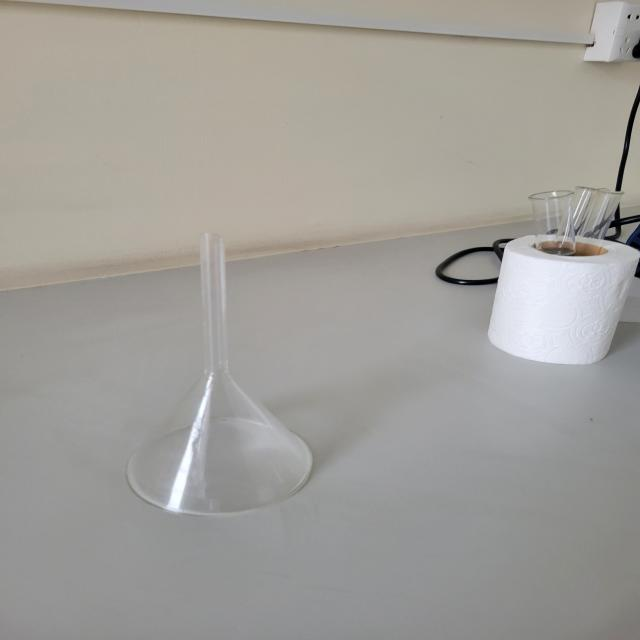Funnel: (89, 222, 343, 558)
